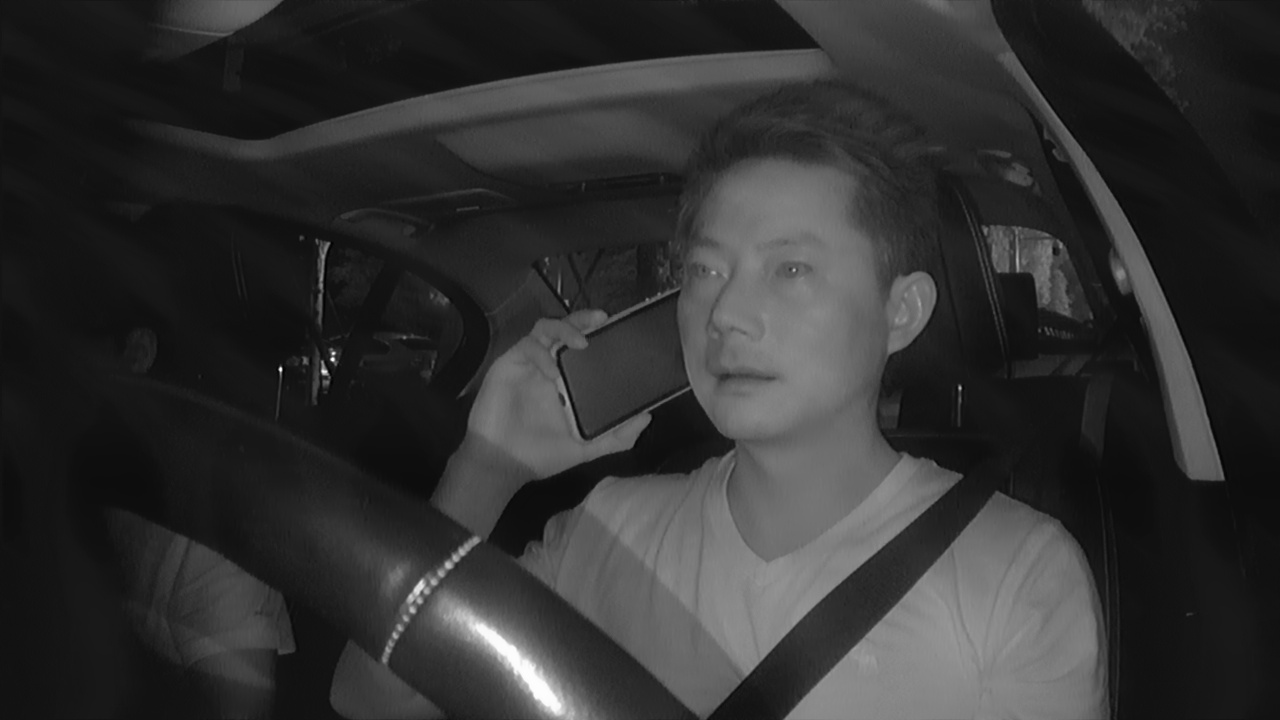hand: (470, 304, 651, 478)
